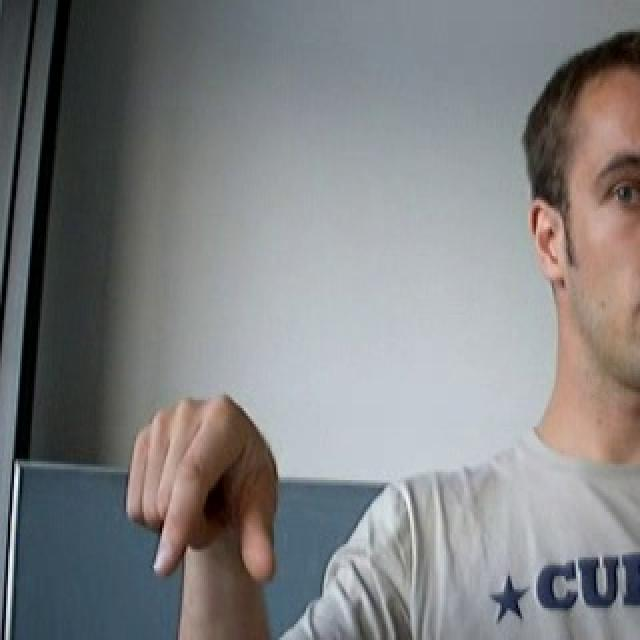Q: (80, 377, 305, 598)
